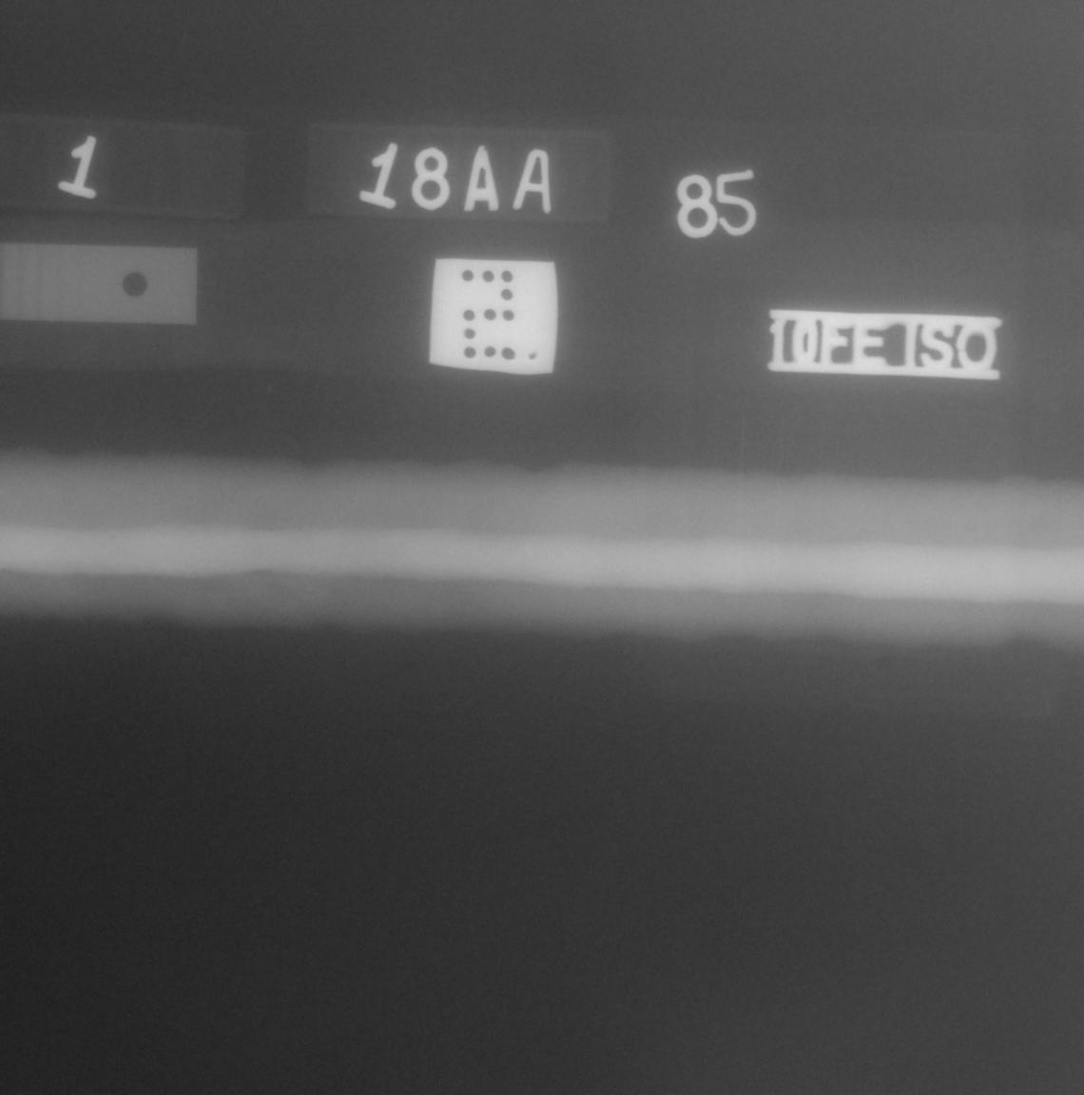Pore/Porosity: (109, 534, 116, 542)
